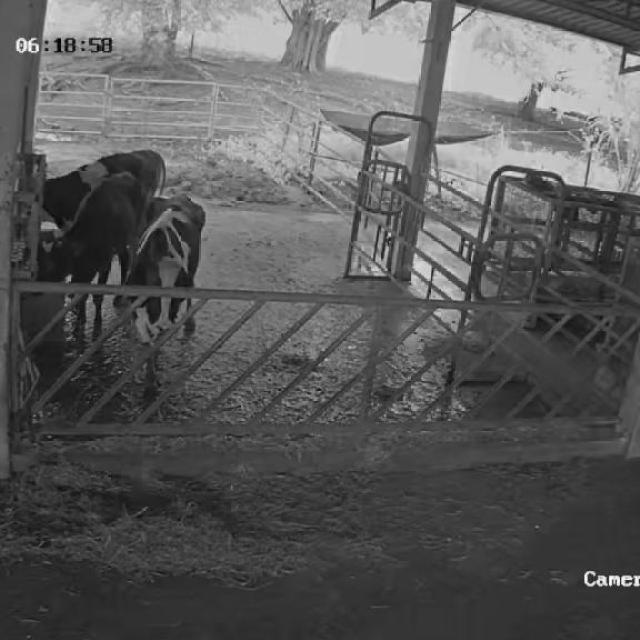drinking: (23, 177, 147, 341)
standing: (112, 194, 210, 396), (26, 148, 170, 230)
